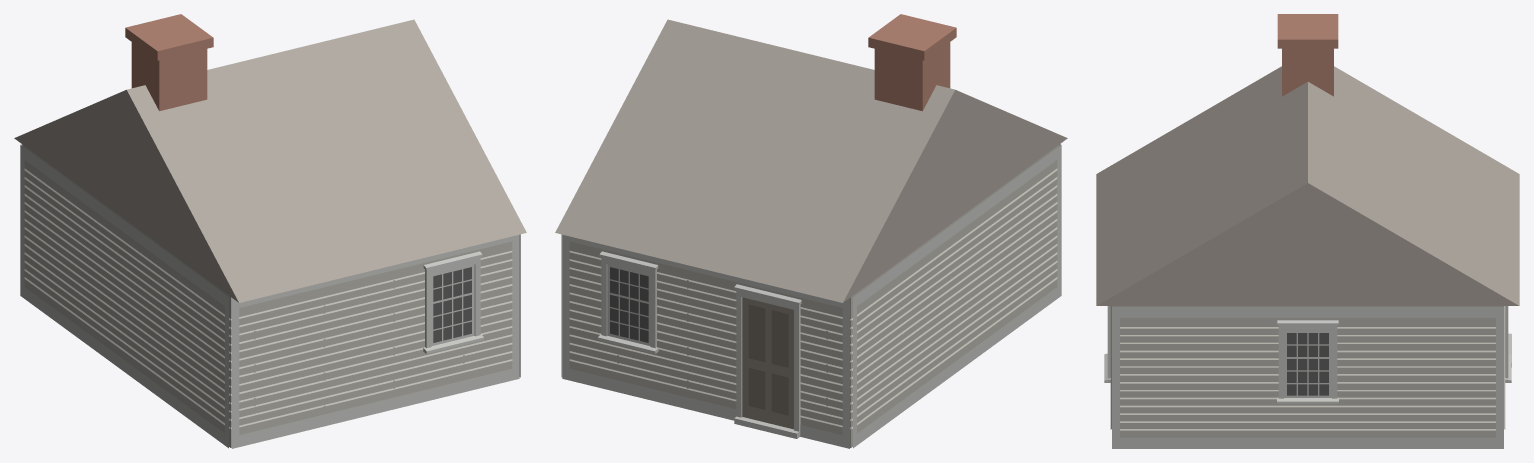
File: recon_1835_blk_south_water_lasalle_d3_03__inferred_1835.glb
3 renders of one model, left to right at view 1: azimuth 30°, elevation 25°; view 2: azimuth 150°, elevation 25°; view 3: azimuth 270°, elevation 25°, orthographic. The views are drawn at different scales.
Parts seen in each view (by area): view 1: recon_1835_blk_south_water_lasalle_d3_03__inferred_1835; view 2: recon_1835_blk_south_water_lasalle_d3_03__inferred_1835; view 3: recon_1835_blk_south_water_lasalle_d3_03__inferred_1835.
Part boxes in pixels (x1,y1,x2,y2): recon_1835_blk_south_water_lasalle_d3_03__inferred_1835: [14, 14, 526, 448]; recon_1835_blk_south_water_lasalle_d3_03__inferred_1835: [555, 14, 1067, 448]; recon_1835_blk_south_water_lasalle_d3_03__inferred_1835: [1096, 14, 1519, 448].
Bounding box in the file's own units: 5.2 × 5.5 × 6.83.
